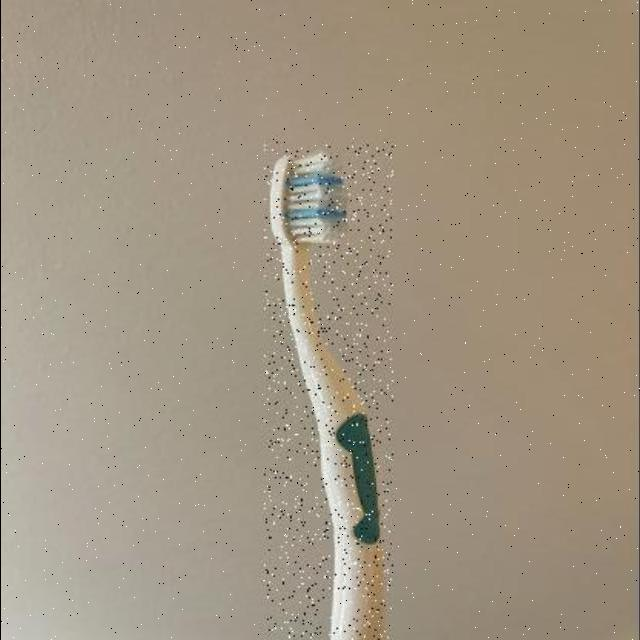toothbrush: (264, 142, 394, 640)
